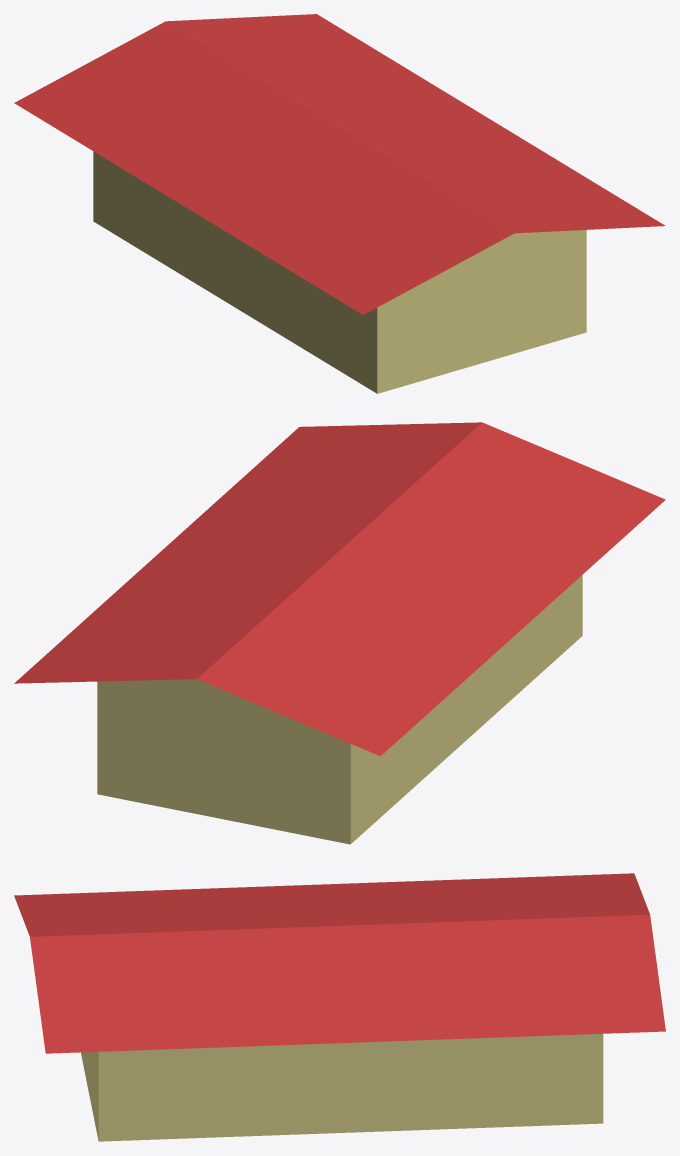
3 renders of one model, top to bottom at view 1: azimuth 30°, elevation 25°; view 2: azimuth 150°, elevation 25°; view 3: azimuth 270°, elevation 25°, orthographic. The views are drawn at different scales.
Bounding box in the file's own units: 29.39 × 44.89 × 11.57.
